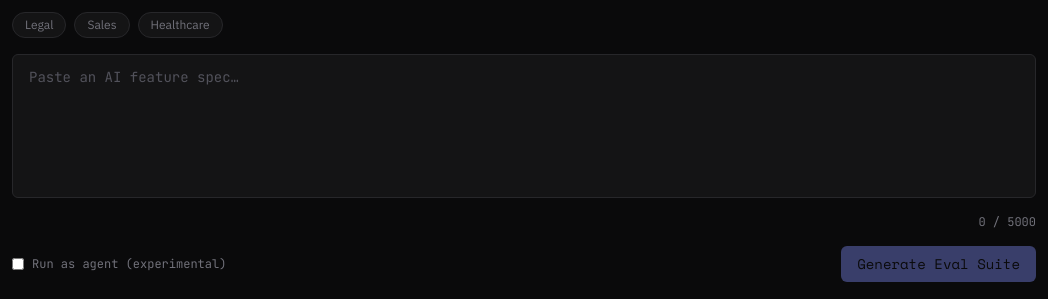
SpecForm › enables submit when the textarea has content
Type "a real spec" into the text box at {"x": 524, "y": 126}, box top-left (12, 54), bottom-right (1036, 198)
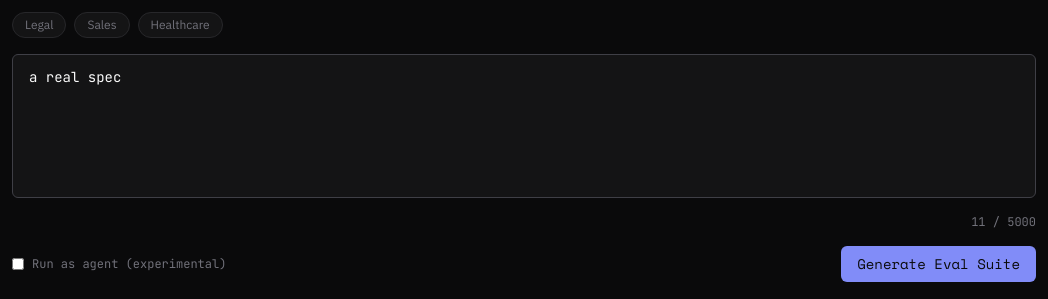
Result: the button "Generate Eval Suite" is enabled at top-left (841, 246), bottom-right (1036, 282)
